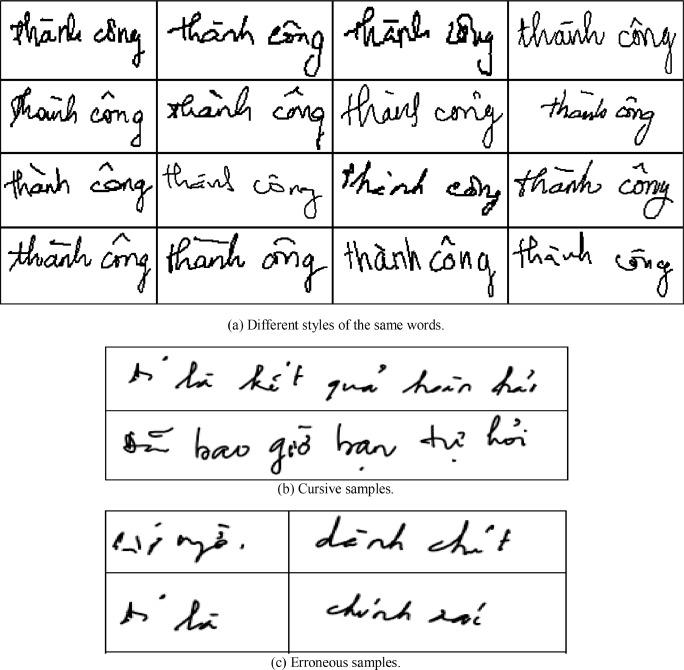text: (117, 412, 532, 478), (120, 354, 544, 402), (512, 4, 681, 78), (336, 81, 506, 153), (510, 226, 675, 300), (162, 229, 331, 301), (163, 81, 327, 154), (164, 8, 327, 81), (339, 4, 496, 77), (512, 157, 678, 224), (159, 159, 324, 225), (338, 232, 502, 298), (4, 227, 154, 295), (337, 159, 503, 220), (312, 512, 516, 561), (6, 8, 148, 72), (8, 84, 147, 149), (2, 158, 156, 214), (536, 85, 659, 152), (322, 586, 491, 633), (106, 517, 249, 566), (116, 590, 224, 635), (225, 316, 445, 335), (275, 480, 395, 500), (266, 654, 402, 670)
